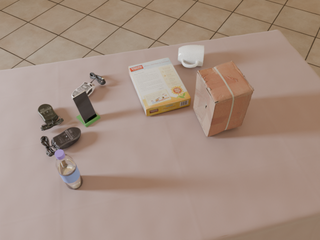bottle: (55, 150, 83, 189)
box: (193, 61, 254, 137), (129, 58, 191, 116)
cup: (178, 45, 204, 68)
mouse: (41, 127, 81, 156), (38, 104, 64, 131), (72, 81, 95, 97)
phone: (72, 90, 97, 123)
